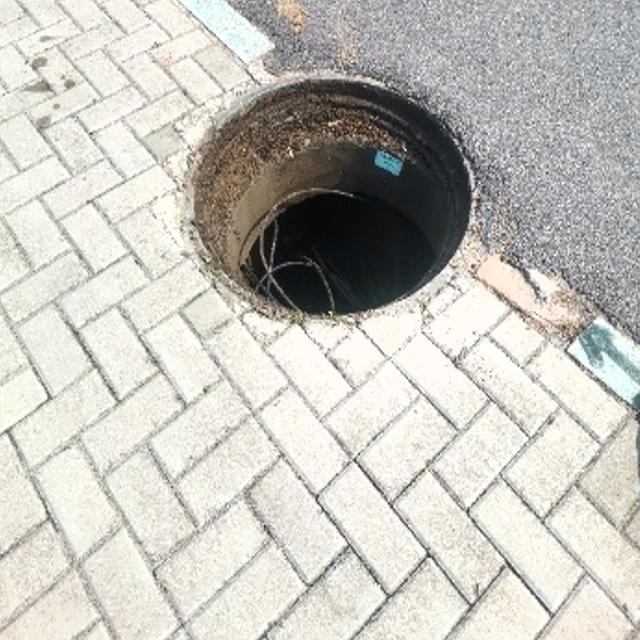lose: (178, 70, 478, 325)
